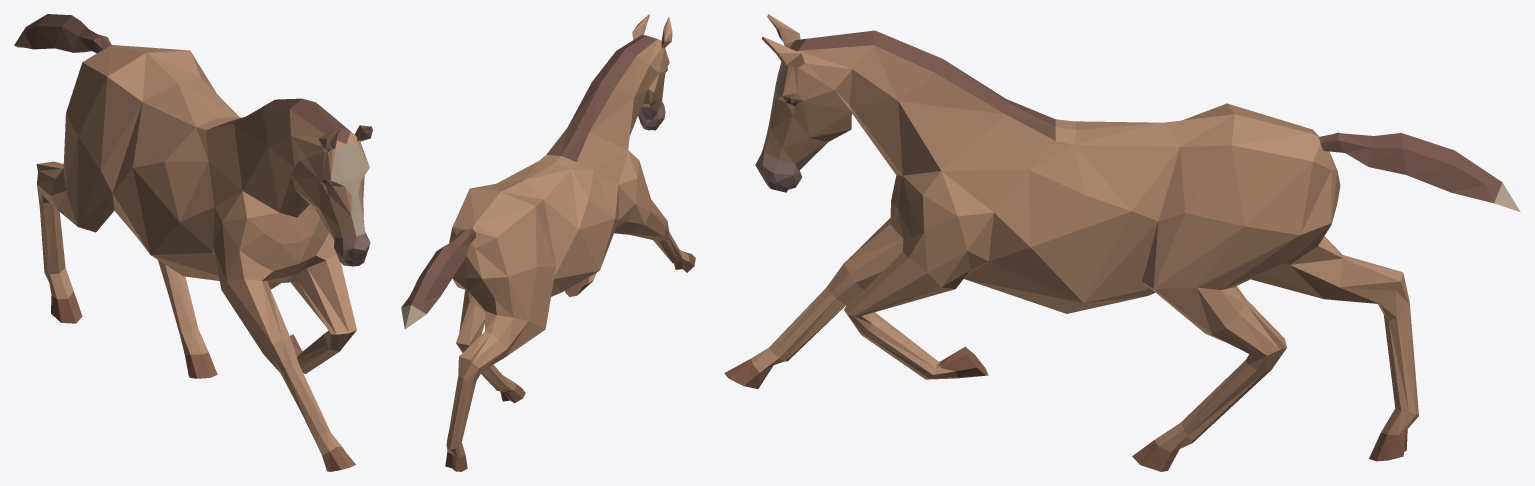
Rendered from Horse.glb.
3 renders of one model, left to right at view 1: azimuth 30°, elevation 25°; view 2: azimuth 150°, elevation 25°; view 3: azimuth 270°, elevation 25°, orthographic. The views are drawn at different scales.
Visible parts, largest first — view 1: mesh_0; view 2: mesh_0; view 3: mesh_0.
Boxes of the visible parts, x1=… form: mesh_0: x1=14, y1=14, x2=372, y2=471; mesh_0: x1=401, y1=14, x2=695, y2=471; mesh_0: x1=724, y1=14, x2=1520, y2=471.
Bounding box in the file's own units: 61.39 × 178 × 291.
